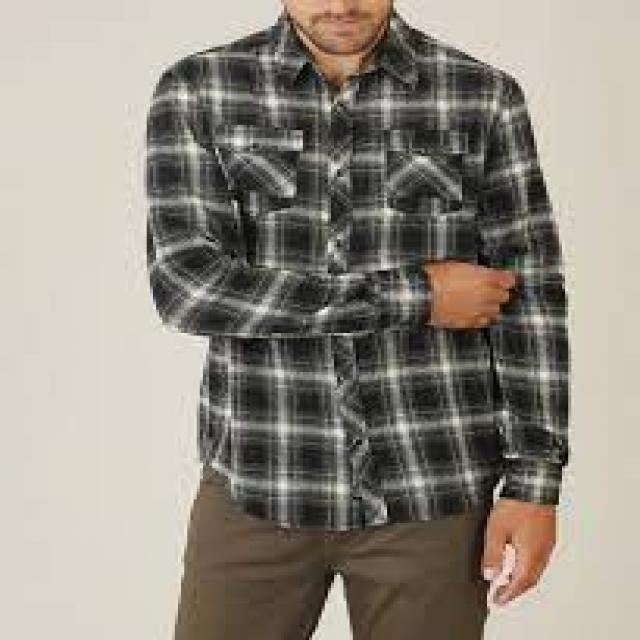plaid: (123, 24, 575, 522)
